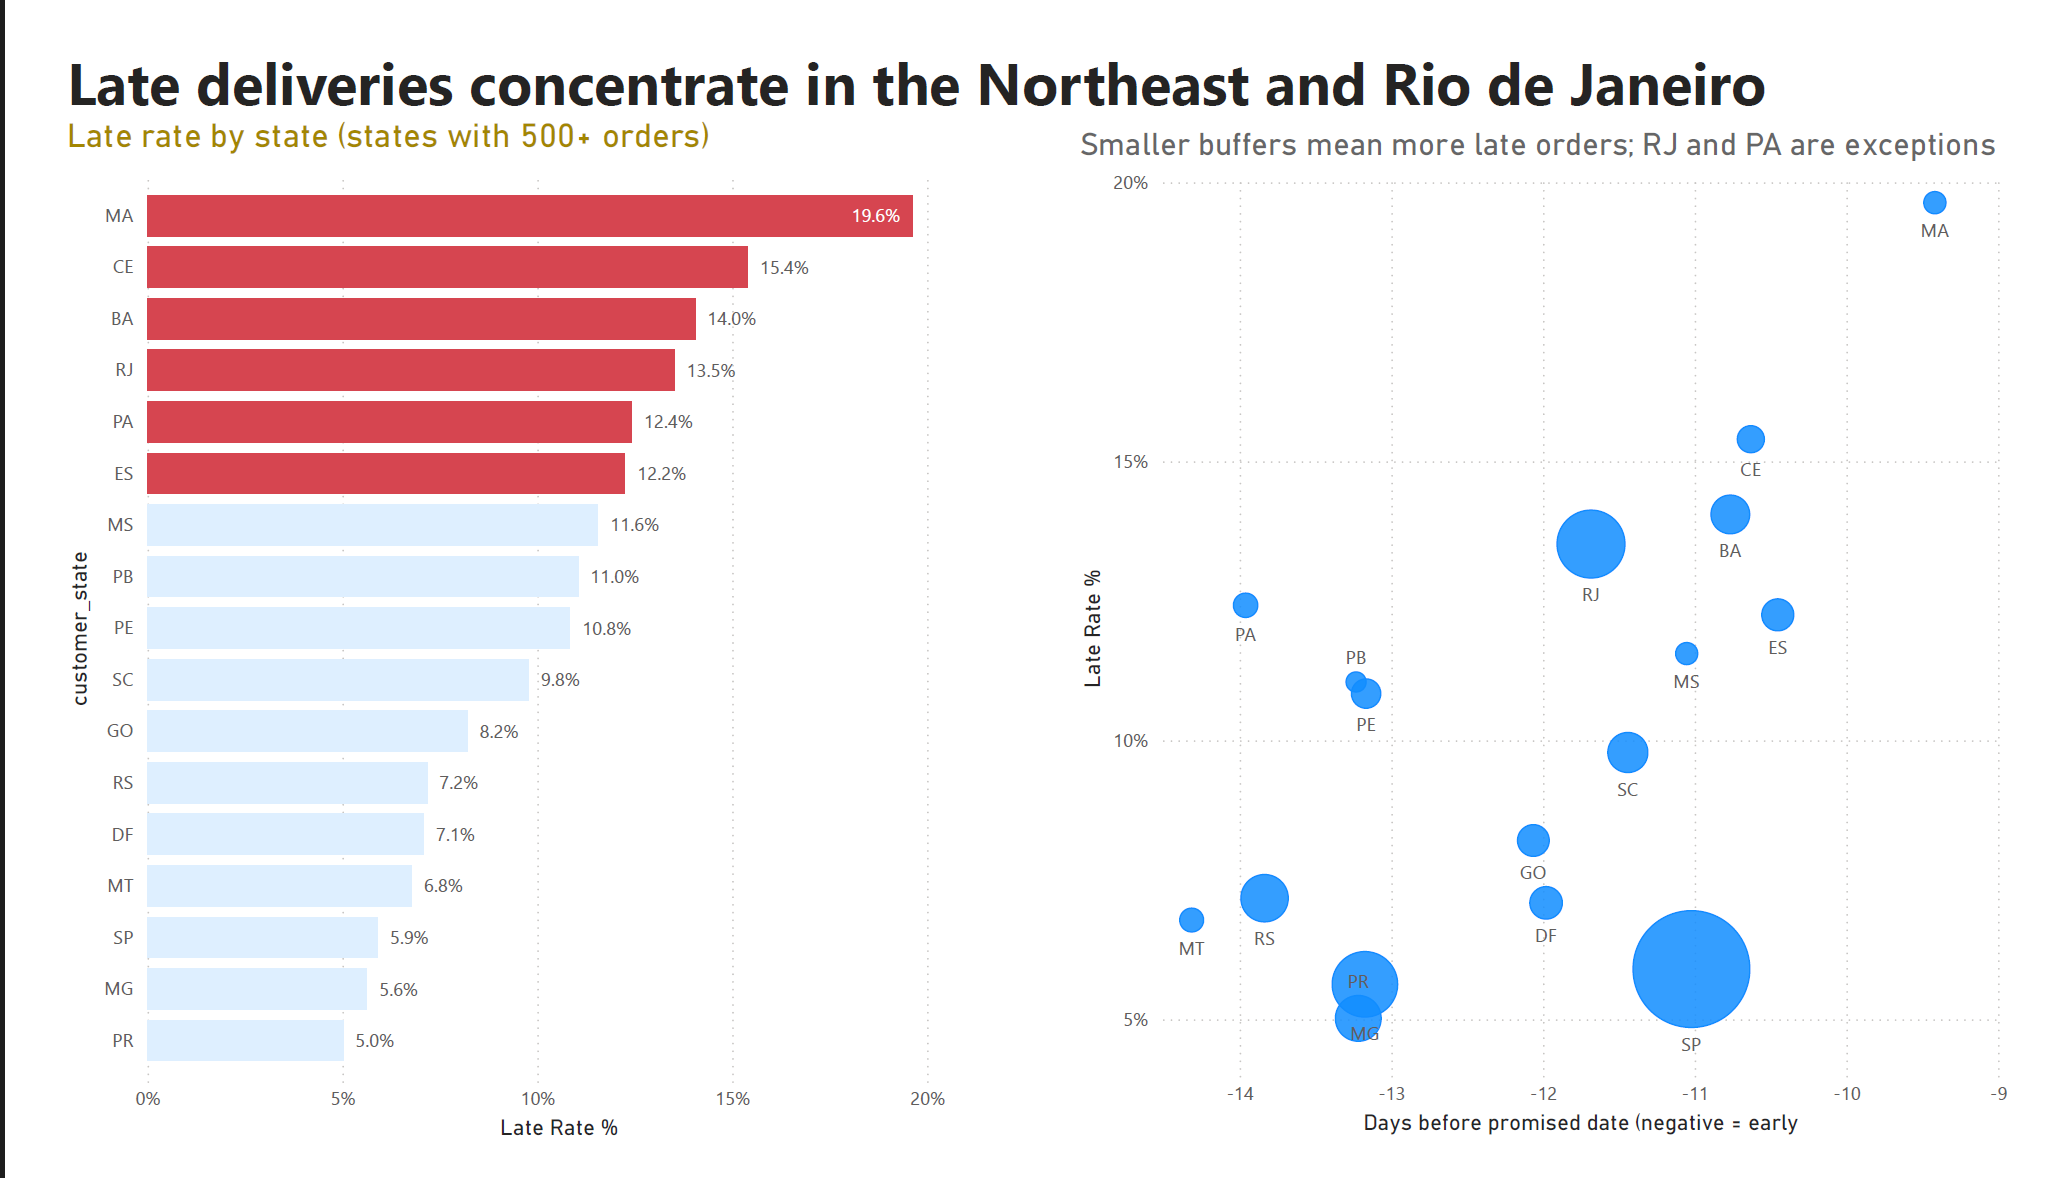

What the dashboard file says about the page in this screenshot:
{"tool":"powerbi","page":{"name":"Where","canvas":[1280,720],"ordinal":2},"visuals":[{"type":"textbox","box":[10.7,0,1269.3,125.6],"z":0},{"type":"clusteredBarChart","title":"Late rate by state (states with 500+ orders)","fields":{"Category":["clean customers.customer_state"],"Y":["Calendar.Late Rate %"]},"box":[10.7,52.1,609.4,669.1],"z":1000},{"type":"scatterChart","title":"Smaller buffers mean more late orders; RJ and PA are exceptions","fields":{"Category":["clean customers.customer_state"],"X":["Calendar.Avg Days vs Estimate"],"Y":["Calendar.Late Rate %"],"Size":["Calendar.Total Orders"]},"box":[667.6,58.2,612.4,659.9],"z":1001}]}

Visuals, with their boxes in screenshot pixels (x1, y1, x2, y2), scaled from the page's 1280x720 canvas onto the 2052x1178 screenshot:
textbox: rect(17, 0, 2051, 205)
"Late rate by state (states with 500+ orders)" clusteredBarChart: rect(17, 85, 994, 1177)
"Smaller buffers mean more late orders; RJ and PA are exceptions" scatterChart: rect(1070, 95, 2051, 1175)
